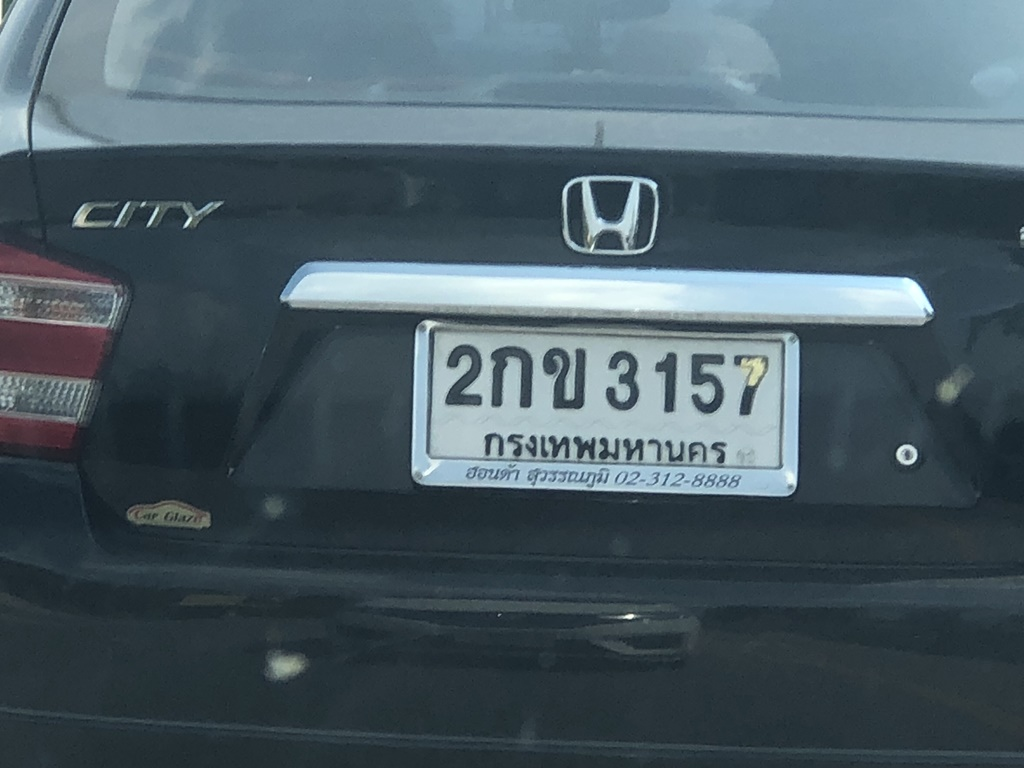five: (685, 345, 733, 422)
one: (646, 337, 692, 439)
seven: (728, 344, 780, 426)
three: (595, 331, 646, 426)
two: (428, 334, 490, 418)
